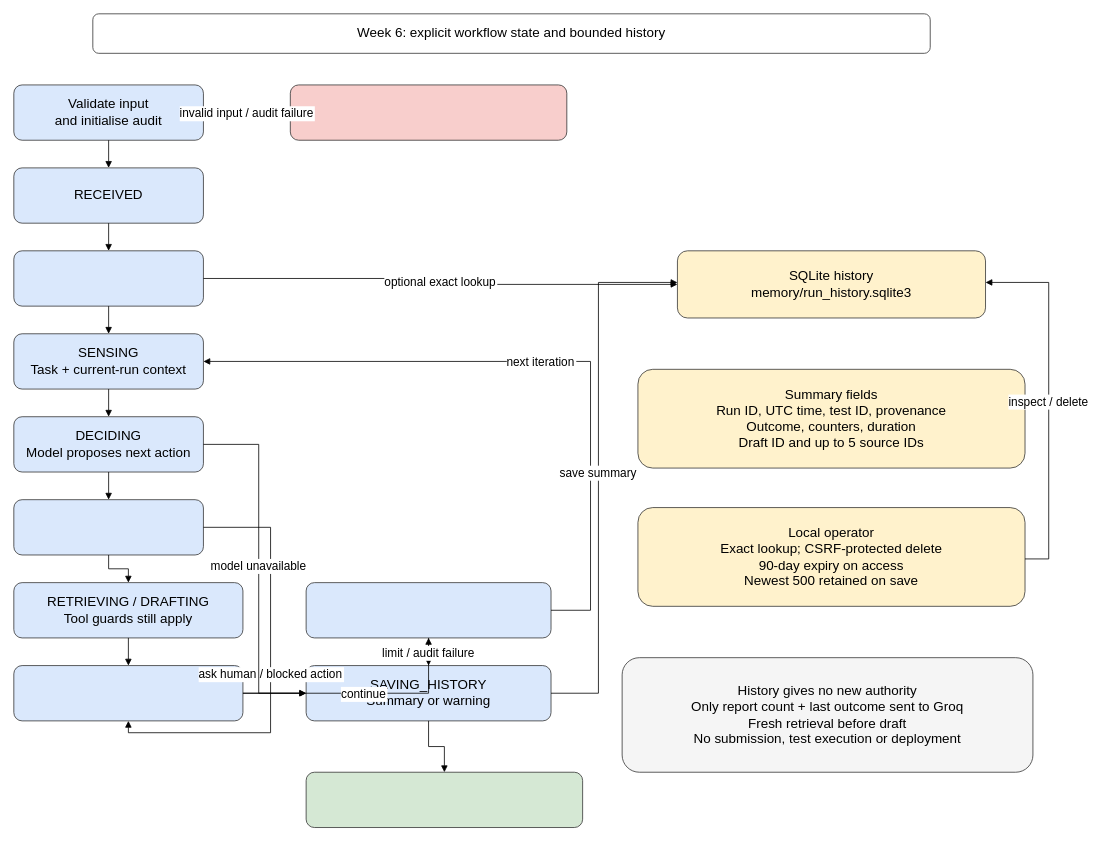
Image size: 1103x841. Some labels were removed from this diagram. Here are the shapes that lost their labels. From the top down, the box of each, then its label:
(290, 84, 567, 140): REJECTED / HANDED_OFF No tools; no history saved
(13, 250, 203, 306): LOADING_HISTORY Reuse only when selected
(13, 499, 203, 555): VALIDATING Schema, allow-list, limits
(305, 582, 551, 638): REPLANNING Persist trace; recheck limits
(13, 665, 243, 721): OBSERVING Record outcome / guard
(305, 771, 583, 828): COMPLETED / HANDED_OFF Local draft still needs review
